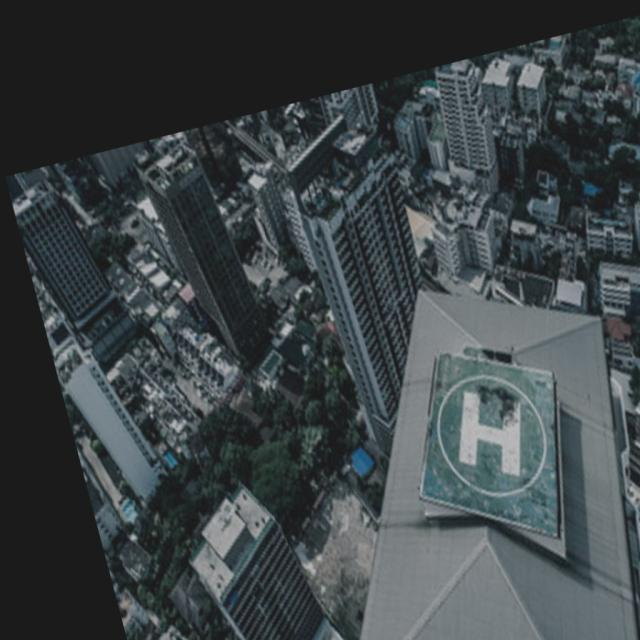helipad: (432, 369, 549, 500)
